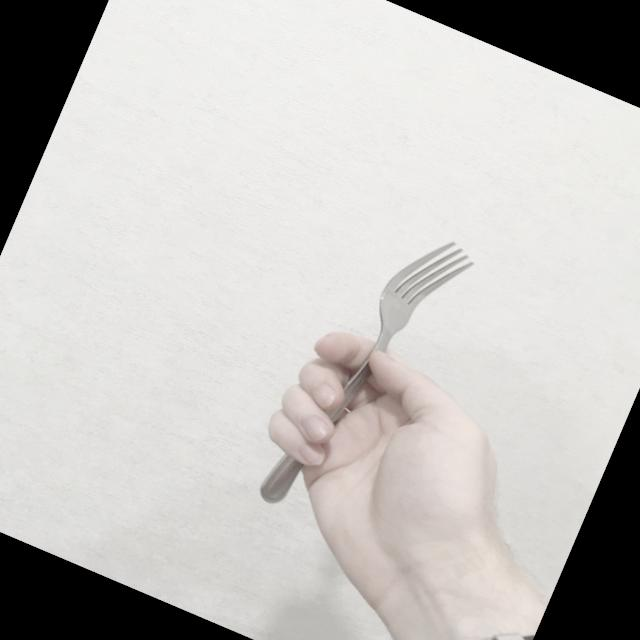fork: (253, 208, 480, 540)
